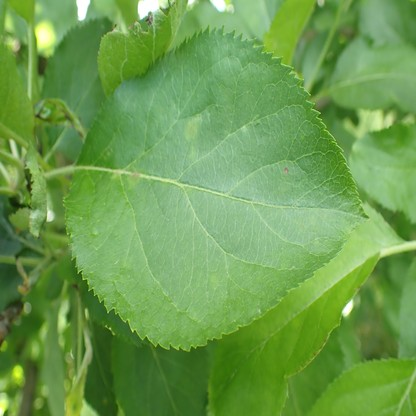frogeye_leaf_spot: (283, 167, 289, 174)
scab: (184, 117, 197, 141), (127, 170, 141, 184), (210, 274, 221, 287)
